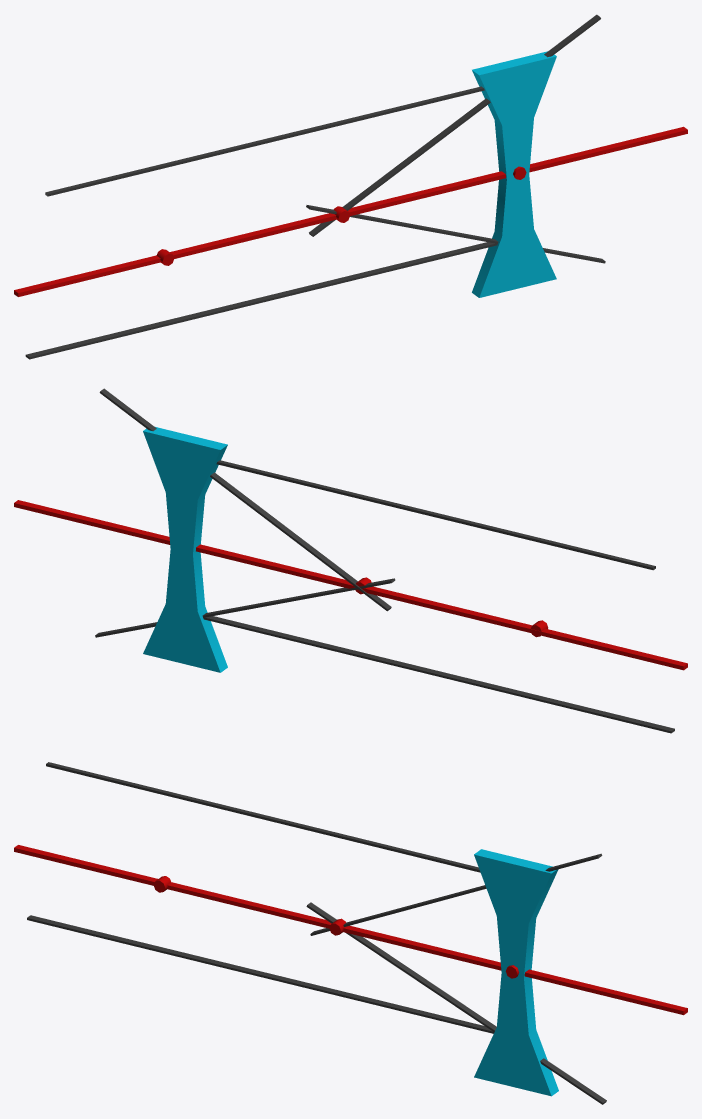
File: last7.fbx
3 views of the same model, one above another, from view 1: azimuth 30°, elevation 25°; view 2: azimuth 150°, elevation 25°; view 3: azimuth 330°, elevation 25° (orthographic).
Visible parts, largest first — view 1: last7; view 2: last7; view 3: last7.
Part boxes in pixels (left/top/right/bottom): last7: left=14, top=14, right=687, bottom=359; last7: left=14, top=388, right=687, bottom=733; last7: left=14, top=762, right=687, bottom=1104.
Size of the model in its own units: 33.83 by 12.07 by 0.8212.
